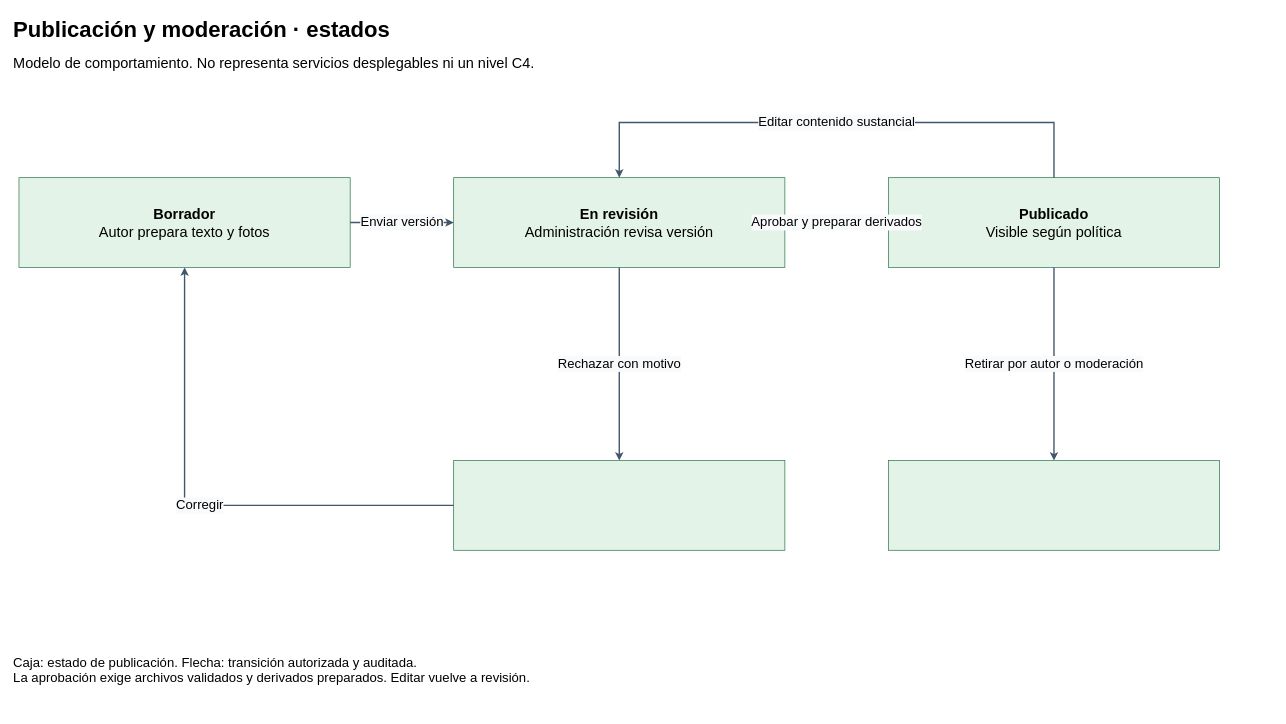
The diagram is 1286 pixels wide and 724 high, and some of its shapes have lost their labels. Each missing label, with the box of its shape:
Rechazado Motivo para corregir: (453, 460, 785, 550)
Retirado Sin nuevas lecturas/interacciones: (888, 460, 1220, 550)
